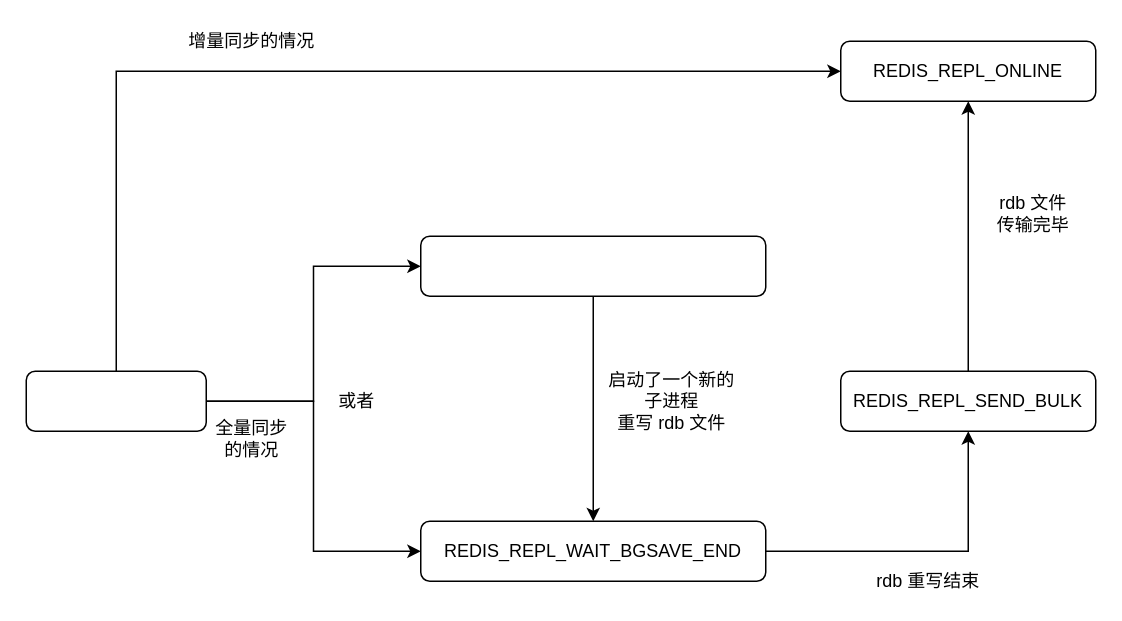
This 1122x621 diagram has some shape labels left out. The shapes that lost their labels are listed below. From the top down, each one's box as (x1, y1, x2, y2) in pixels, then its label:
(419, 235, 766, 296): REDIS_REPL_WAIT_BGSAVE_START
(25, 370, 206, 431): REDIS_REPL_NONE
